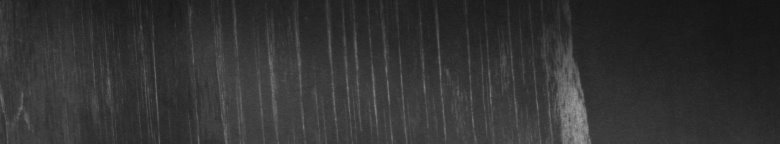ka: (222, 18, 591, 134)
